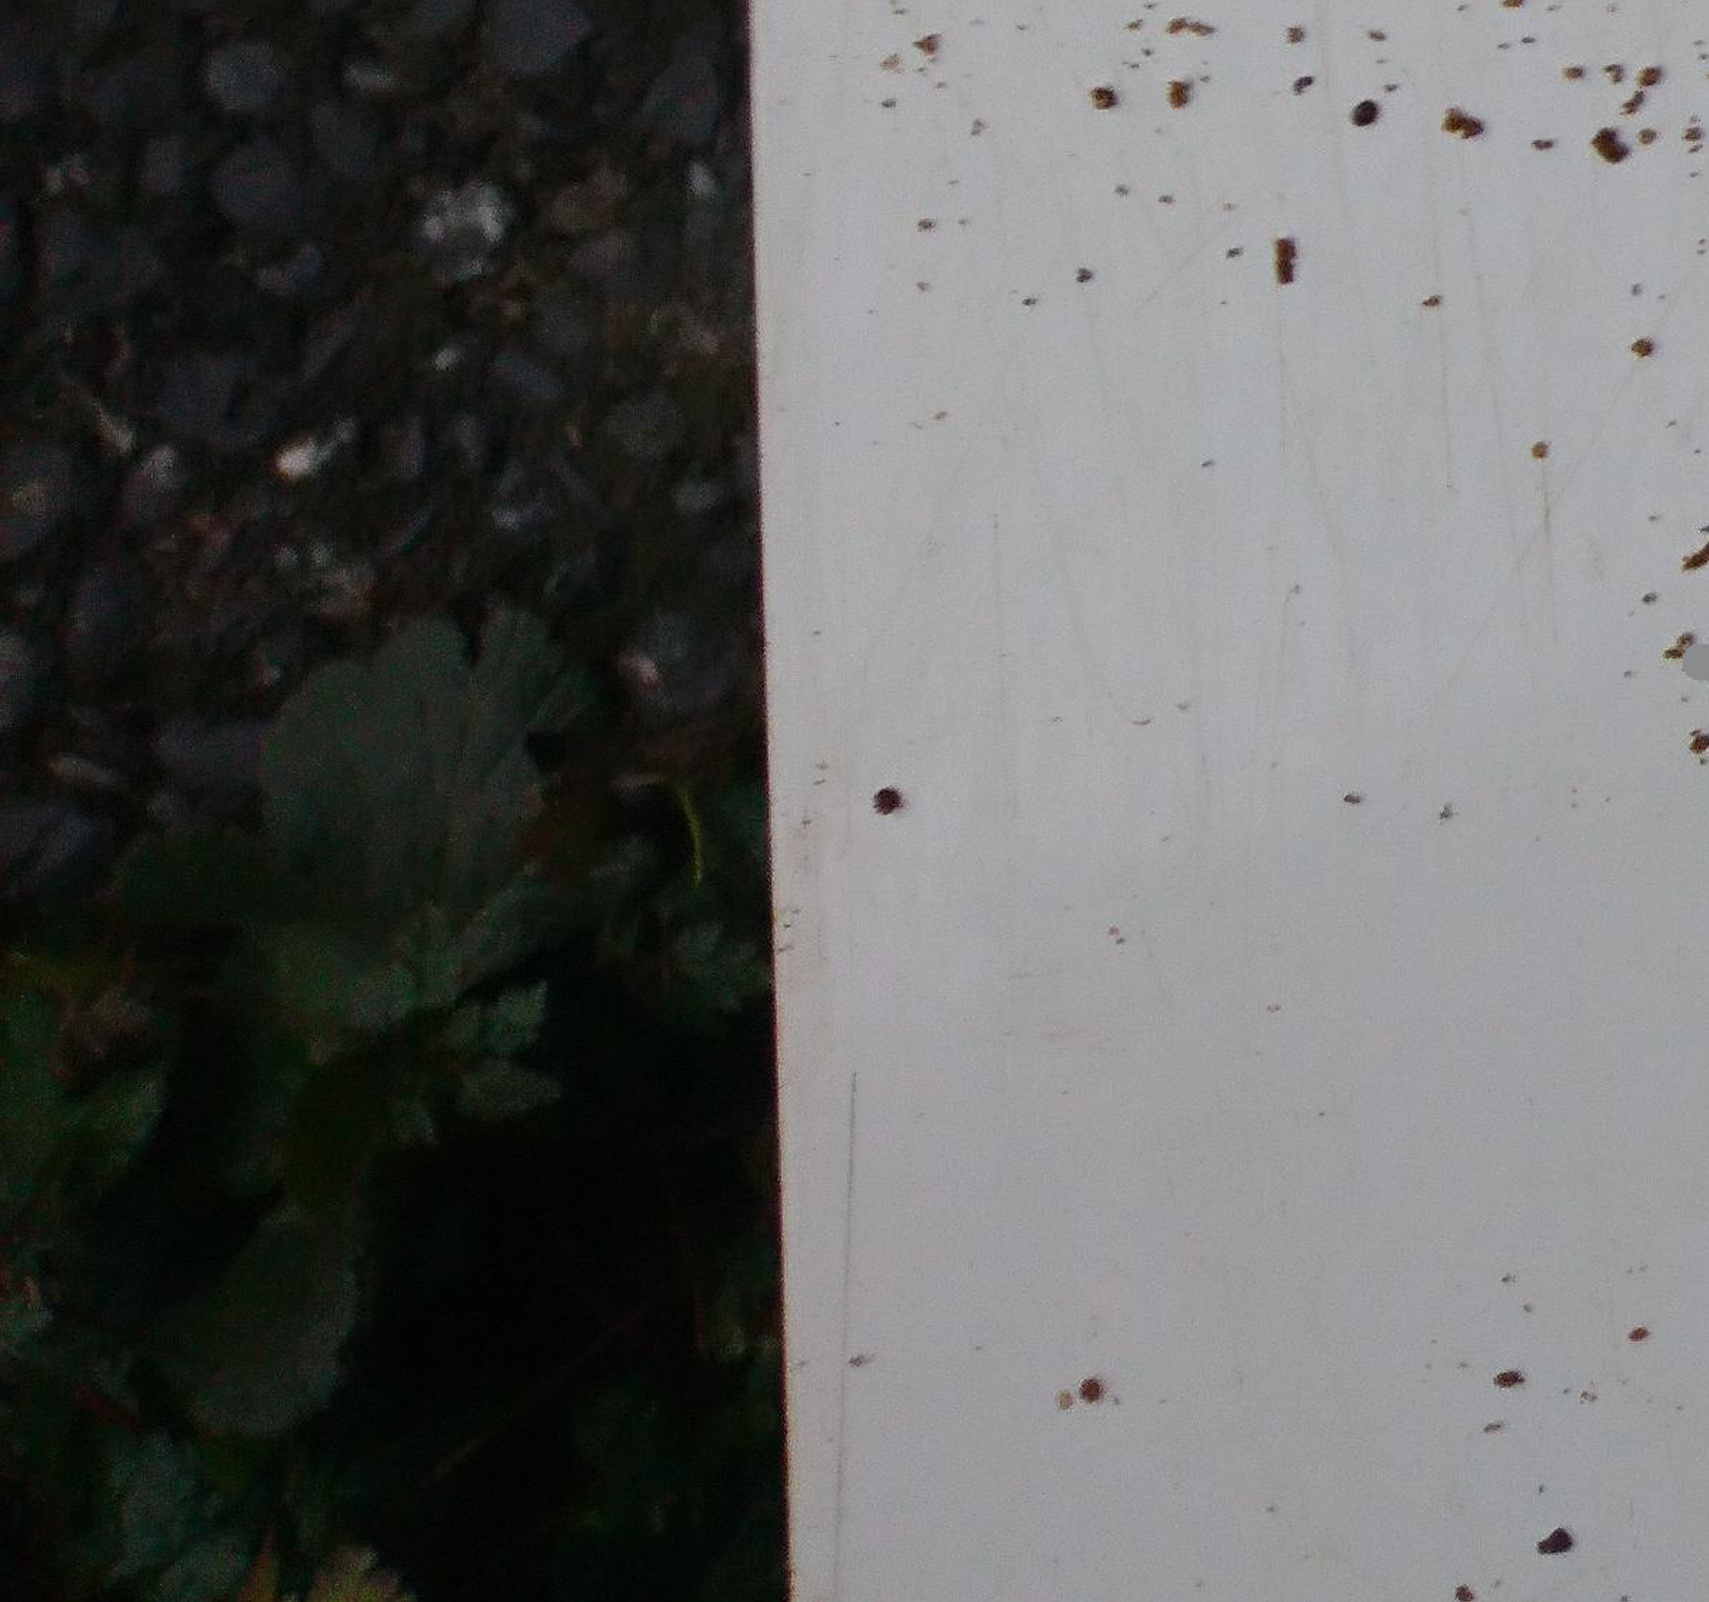Varroa: (1354, 101, 1381, 129)
